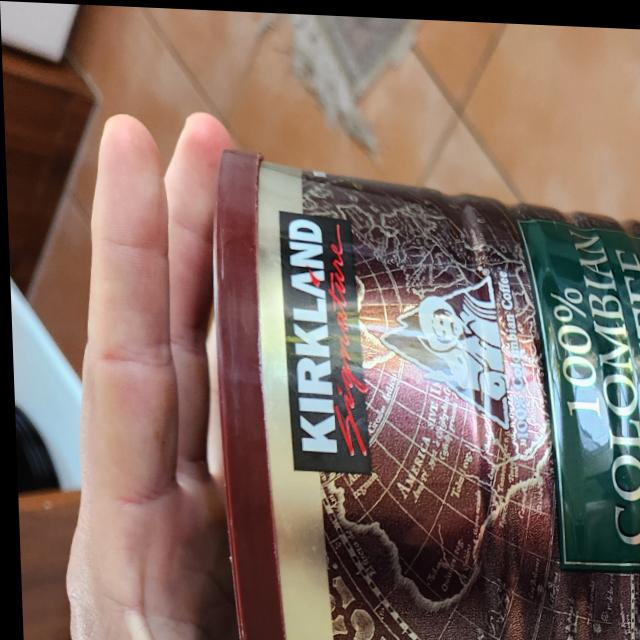coffee: (207, 143, 640, 640)
